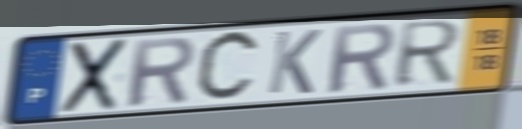C: (192, 26, 264, 108)
K: (264, 27, 324, 97)
R: (125, 34, 198, 110), (325, 21, 398, 96), (391, 18, 465, 90)
X: (57, 35, 131, 117)
